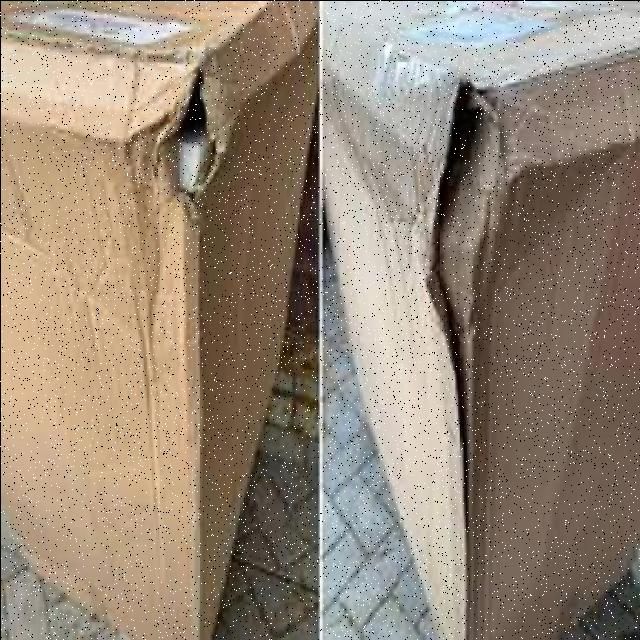defect: (320, 1, 637, 640), (0, 1, 317, 640)
